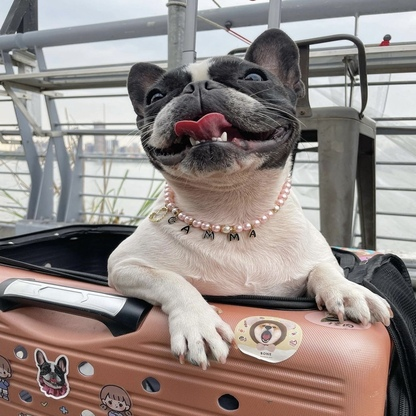bulldog: (104, 28, 397, 372)
